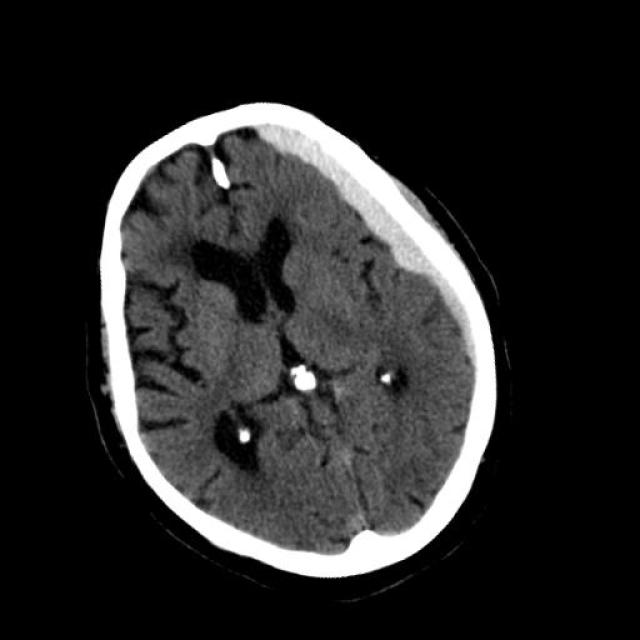Subdural: (244, 55, 554, 403)
